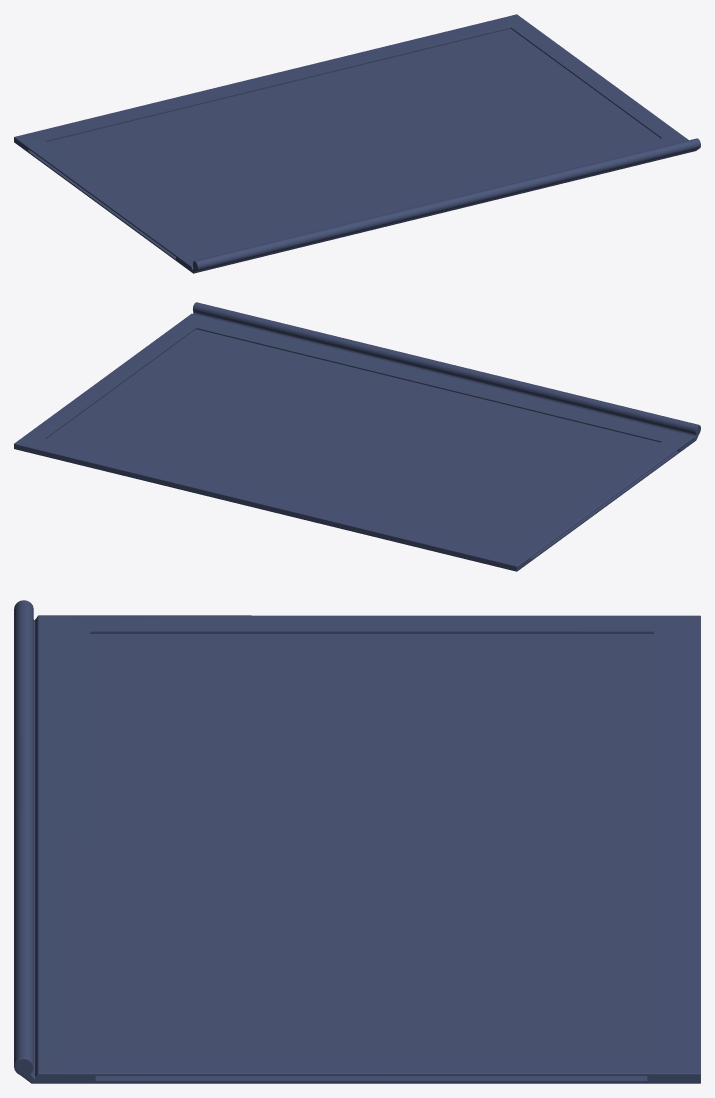
File: Display_Upper_Part.fbx
The picture shows the model from 3 angles, top to bottom: view 1: azimuth 30°, elevation 25°; view 2: azimuth 150°, elevation 25°; view 3: azimuth 270°, elevation 25°; orthographic projection. The views are drawn at different scales.
Visible parts, largest first — view 1: Display_Upper_Part; view 2: Display_Upper_Part; view 3: Display_Upper_Part.
Boxes of the visible parts, x1,y1,x2,y2 form: Display_Upper_Part: (14,14,700,273); Display_Upper_Part: (14,302,700,571); Display_Upper_Part: (14,600,700,1083).
Size of the model in its own units: 39.99 by 1.06 by 25.34.
